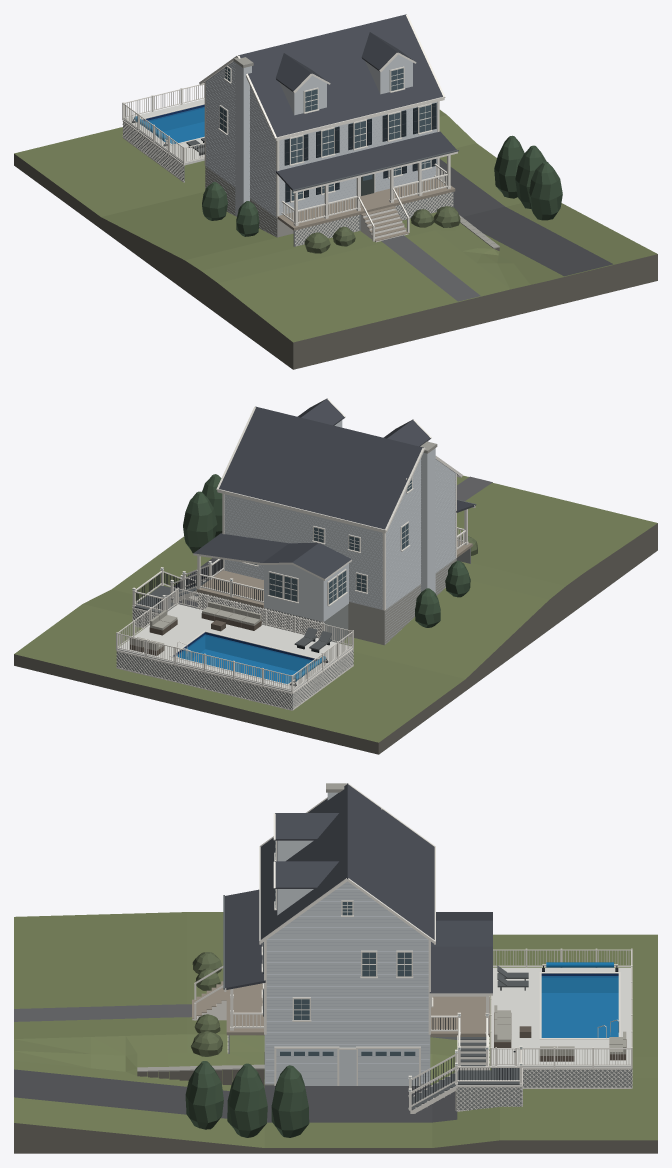
The model's file is Lampey Property.glb.
3 renders of one model, top to bottom at view 1: azimuth 30°, elevation 25°; view 2: azimuth 150°, elevation 25°; view 3: azimuth 270°, elevation 25°, orthographic. The views are drawn at different scales.
Parts seen in each view (by area): view 1: Graded lawn, Main roof and fascia, Main walls and foundation, Evergreens and foundation shrubs, Asphalt driveway and garage apron, Front porch canopy and gutter, Front porch deck and skirt, Clapboard courses, Pool fence and lattice skirt, Chimney on lawn side, Front porch posts and railings, Front walkway (+11 smaller); view 2: Graded lawn, Main roof and fascia, Main walls and foundation, Pool fence and lattice skirt, Pool surround and coping, Clapboard courses, Evergreens and foundation shrubs, Rear projecting windowed room, Continuous rear roof and fascia, Pool liner and waterline band, Rectangular pool water, Rear covered porch and upper landing (+6 smaller); view 3: Graded lawn, Main walls and foundation, Main roof and fascia, Asphalt driveway and garage apron, Evergreens and foundation shrubs, Pool fence and lattice skirt, Pool surround and coping, Clapboard courses, Continuous rear roof and fascia, Pool liner and waterline band, Rectangular pool water, Front porch canopy and gutter (+14 smaller).
Boxes of the visible parts, box(x1,y1,x2,y2) form: Graded lawn: box(14, 110, 657, 369); Main roof and fascia: box(199, 14, 445, 140); Main walls and foundation: box(204, 61, 439, 237); Evergreens and foundation shrubs: box(202, 135, 562, 253); Asphalt driveway and garage apron: box(439, 159, 613, 276); Front porch canopy and gutter: box(276, 131, 458, 193); Front porch deck and skirt: box(277, 178, 455, 246); Clapboard courses: box(206, 62, 436, 236); Pool fence and lattice skirt: box(122, 84, 204, 182); Chimney on lawn side: box(233, 57, 253, 216); Front porch posts and railings: box(281, 155, 450, 226); Front walkway: box(381, 235, 480, 301); Graded lawn: box(14, 475, 657, 754); Main roof and fascia: box(216, 406, 462, 533); Main walls and foundation: box(222, 459, 456, 645); Pool fence and lattice skirt: box(116, 587, 353, 710); Pool surround and coping: box(117, 604, 352, 692); Clapboard courses: box(225, 461, 455, 643); Evergreens and foundation shrubs: box(183, 474, 477, 627); Rear projecting windowed room: box(264, 563, 348, 643); Continuous rear roof and fascia: box(193, 533, 351, 580); Pool liner and waterline band: box(173, 632, 316, 683); Rectangular pool water: box(177, 634, 314, 683); Rear covered porch and upper landing: box(197, 556, 323, 637); Graded lawn: box(14, 912, 657, 1153); Main walls and foundation: box(264, 881, 430, 1085); Main roof and fascia: box(259, 783, 435, 944); Asphalt driveway and garage apron: box(14, 1069, 457, 1122); Evergreens and foundation shrubs: box(185, 952, 309, 1137); Pool fence and lattice skirt: box(456, 948, 632, 1111); Pool surround and coping: box(492, 967, 630, 1067); Clapboard courses: box(266, 884, 429, 1082); Continuous rear roof and fascia: box(429, 912, 492, 995); Pool liner and waterline band: box(541, 973, 618, 1037); Rectangular pool water: box(541, 976, 618, 1037); Front porch canopy and gutter: box(223, 889, 265, 991).
Bounding box in the file's own units: 23.4 × 11.45 × 31.02.
